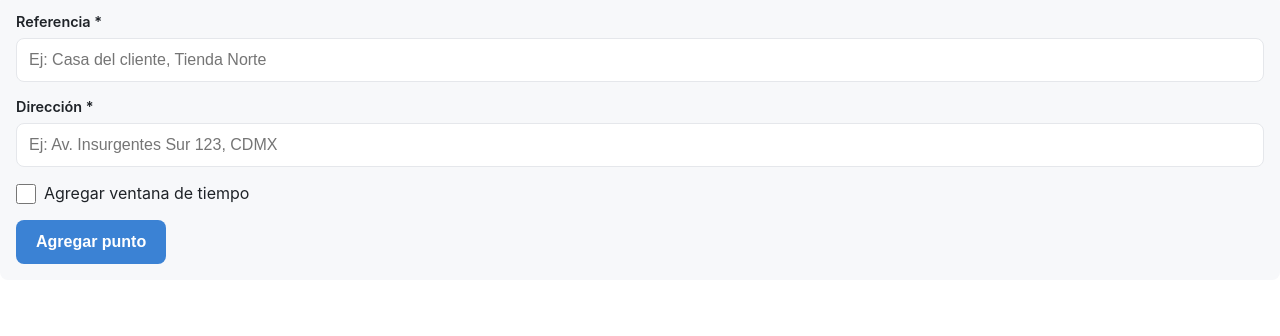
Test: DeliveryPointForm › muestra error si se envía sin referencia
The image size is (1280, 336).
Click the button "Agregar punto": (91, 242) [16, 220, 166, 264]
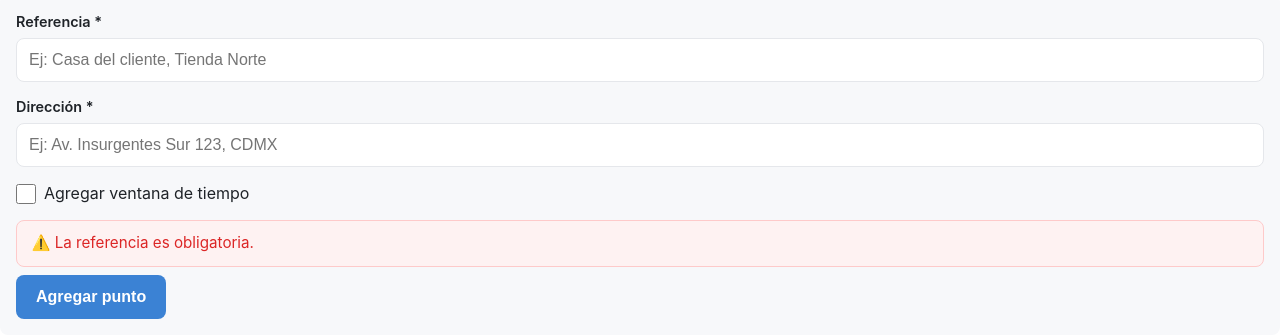
Expected: the message shows "referencia es obligatoria", [55, 234, 254, 252]
